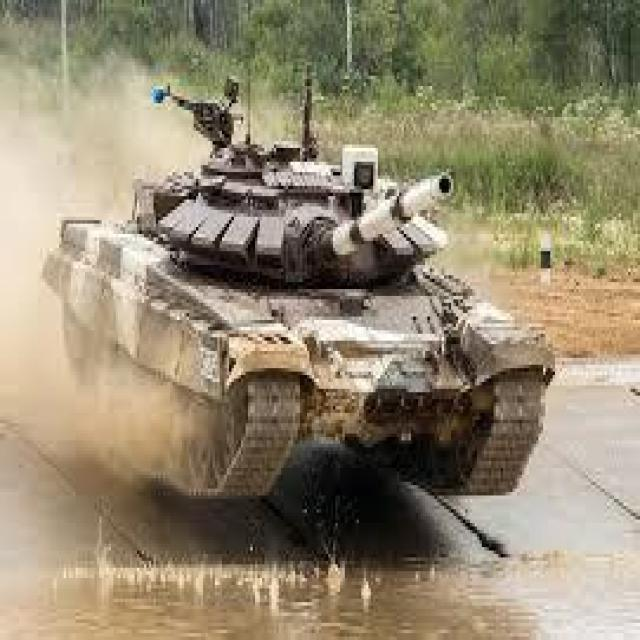Tanks: (50, 122, 552, 511)
